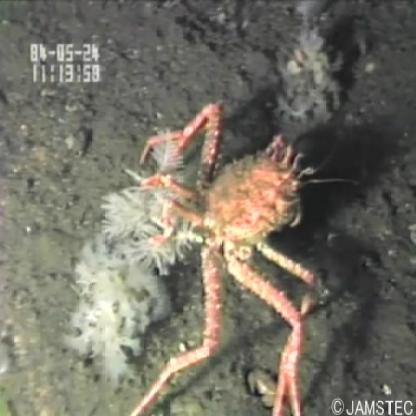Bio: (95, 95, 324, 416)
